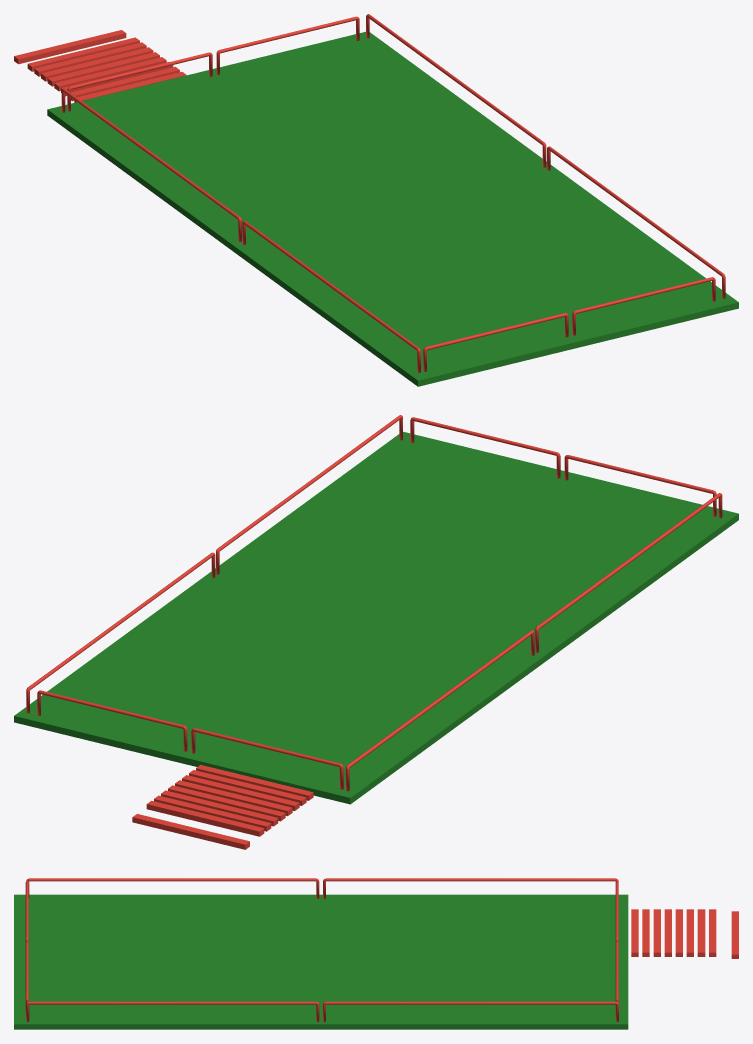
Rendered from simuladorSismos.fbx.
3 views of the same model, one above another, from view 1: azimuth 30°, elevation 25°; view 2: azimuth 150°, elevation 25°; view 3: azimuth 270°, elevation 25° (orthographic). The views are drawn at different scales.
Parts seen in each view (by area): view 1: Base movil, Escalon interno, Barandas completas, Puertas ingreso/salida, Barandas parciales, Escalon externo; view 2: Base movil, Escalon interno, Barandas completas, Barandas parciales, Puertas ingreso/salida, Escalon externo; view 3: Base movil, Barandas completas, Escalon interno, Barandas parciales, Puertas ingreso/salida, Escalon externo.
Boxes of the visible parts, <box> form: Base movil: <box>47,31,738,386</box>; Escalon interno: <box>27,37,186,102</box>; Barandas completas: <box>61,14,725,372</box>; Puertas ingreso/salida: <box>67,52,568,371</box>; Barandas parciales: <box>216,16,715,335</box>; Escalon externo: <box>14,30,126,64</box>; Base movil: <box>14,431,738,804</box>; Escalon interno: <box>146,764,313,836</box>; Barandas completas: <box>26,415,722,791</box>; Barandas parciales: <box>37,417,560,751</box>; Puertas ingreso/salida: <box>191,455,716,789</box>; Escalon externo: <box>132,814,249,849</box>; Base movil: <box>14,894,628,1029</box>; Barandas completas: <box>26,878,618,1022</box>; Escalon interno: <box>631,909,716,956</box>; Barandas parciales: <box>25,941,618,1017</box>; Puertas ingreso/salida: <box>25,881,618,942</box>; Escalon externo: <box>731,911,738,958</box>.
Size of what is drawn, in the model's own units: 16.24 by 38.33 by 1.58.
